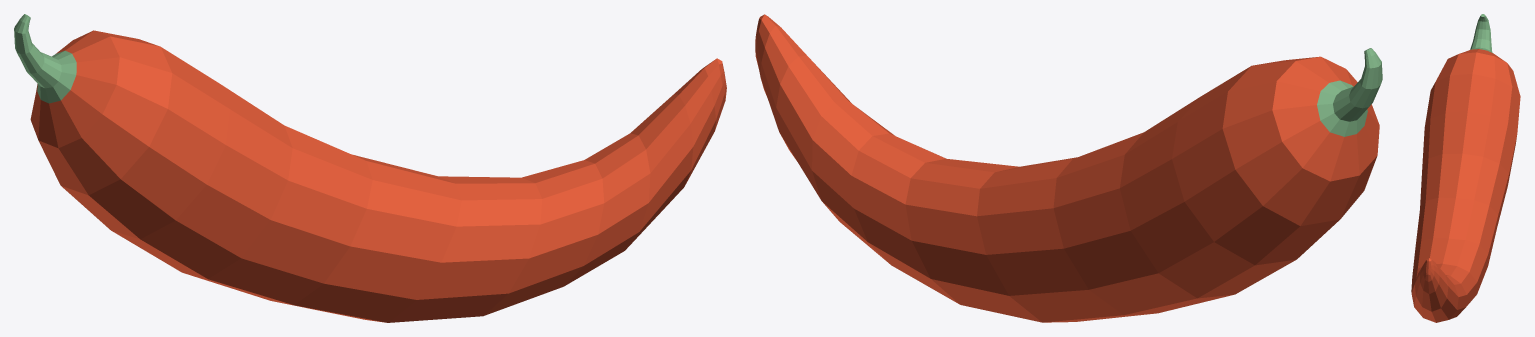
File: chili.glb
The picture shows the model from 3 angles, left to right: view 1: azimuth 30°, elevation 25°; view 2: azimuth 150°, elevation 25°; view 3: azimuth 270°, elevation 25°; orthographic projection. The views are drawn at different scales.
Visible parts, largest first — view 1: chili; view 2: chili; view 3: chili.
Boxes of the visible parts, x1,y1,x2,y2 form: chili: [14, 14, 726, 322]; chili: [755, 14, 1382, 322]; chili: [1411, 14, 1520, 322].
Bounding box in the file's own units: 0.8929 × 0.4837 × 0.2492.
1 material, 1 textured.
